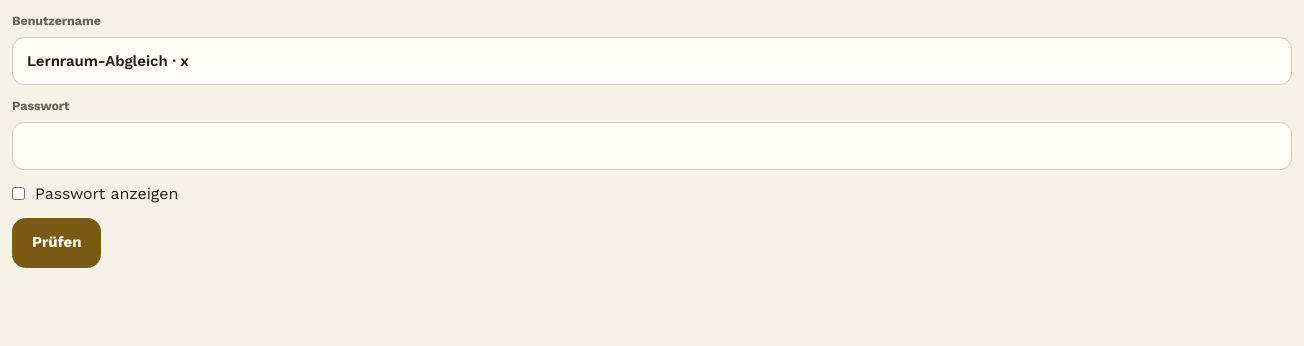
SyncPasswordForm for password managers › requires some input when entering
The image size is (1304, 346).
Step 1. Click the button "Prüfen" → (57, 242), box [12, 218, 101, 268]
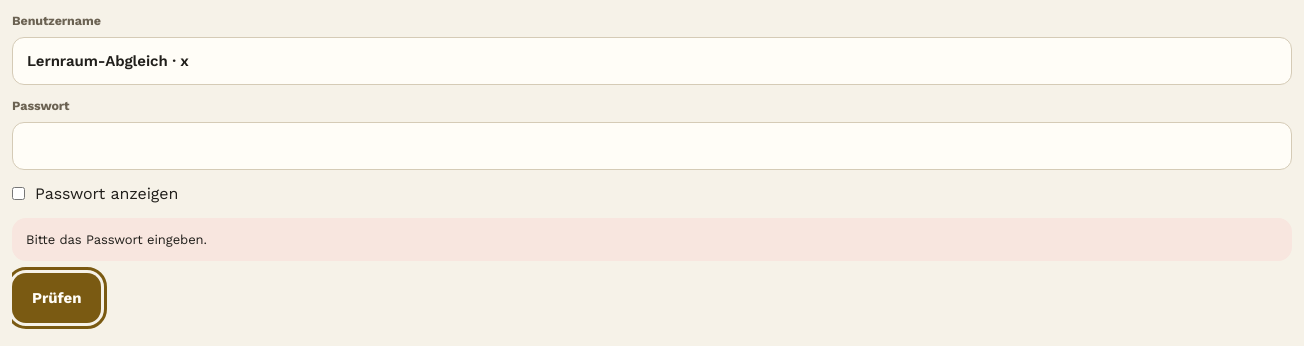
Expected: the message shows "eingeben", [26, 232, 207, 246]
